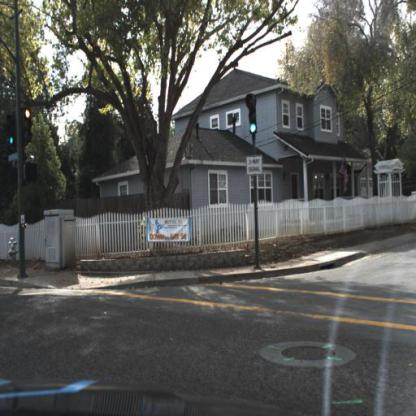trafficLight: (245, 93, 261, 140)
trafficLight-Green: (6, 116, 17, 158)
trafficLight-Red: (20, 107, 36, 149)
